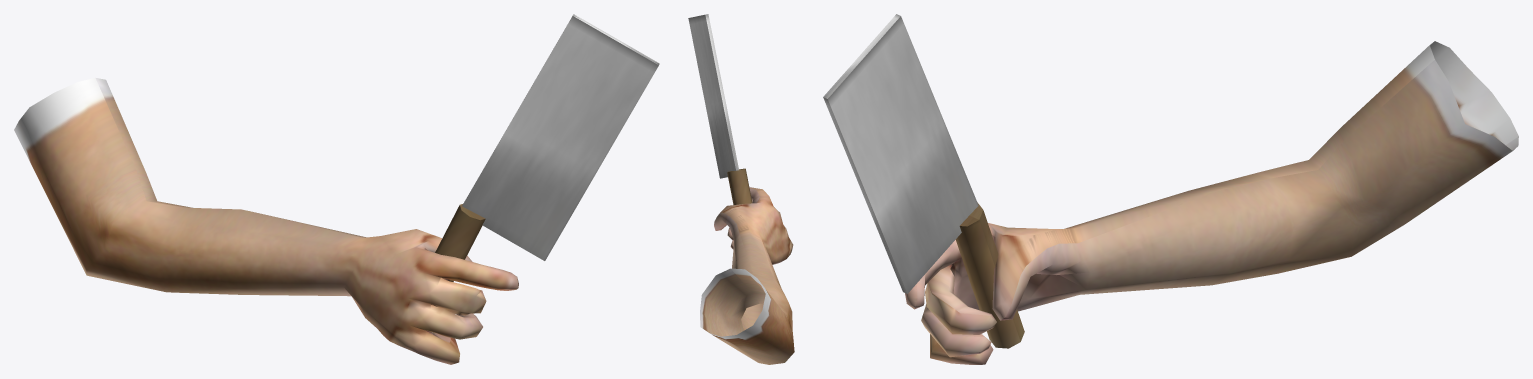
Rendered from knife.obj.
3 views of the same model, side by side, from view 1: azimuth 30°, elevation 25°; view 2: azimuth 150°, elevation 25°; view 3: azimuth 270°, elevation 25° (orthographic). The views are drawn at different scales.
Visible parts, largest first — view 1: cman0010_wa_layer01, Quader001, Zylinder001; view 2: cman0010_wa_layer01, Quader001, Zylinder001; view 3: cman0010_wa_layer01, Quader001, Zylinder001.
Part boxes in pixels (left/top/right/bottom): cman0010_wa_layer01: left=14, top=77, right=518, bottom=364; Quader001: left=462, top=14, right=659, bottom=260; Zylinder001: left=435, top=204, right=485, bottom=281; cman0010_wa_layer01: left=700, top=187, right=794, bottom=364; Quader001: left=688, top=14, right=738, bottom=178; Zylinder001: left=727, top=168, right=752, bottom=204; cman0010_wa_layer01: left=905, top=41, right=1518, bottom=364; Quader001: left=823, top=14, right=978, bottom=293; Zylinder001: left=955, top=202, right=1024, bottom=348.
Size of the model in its own units: 8.74 by 7.46 by 11.52.
1 material, 1 textured.
